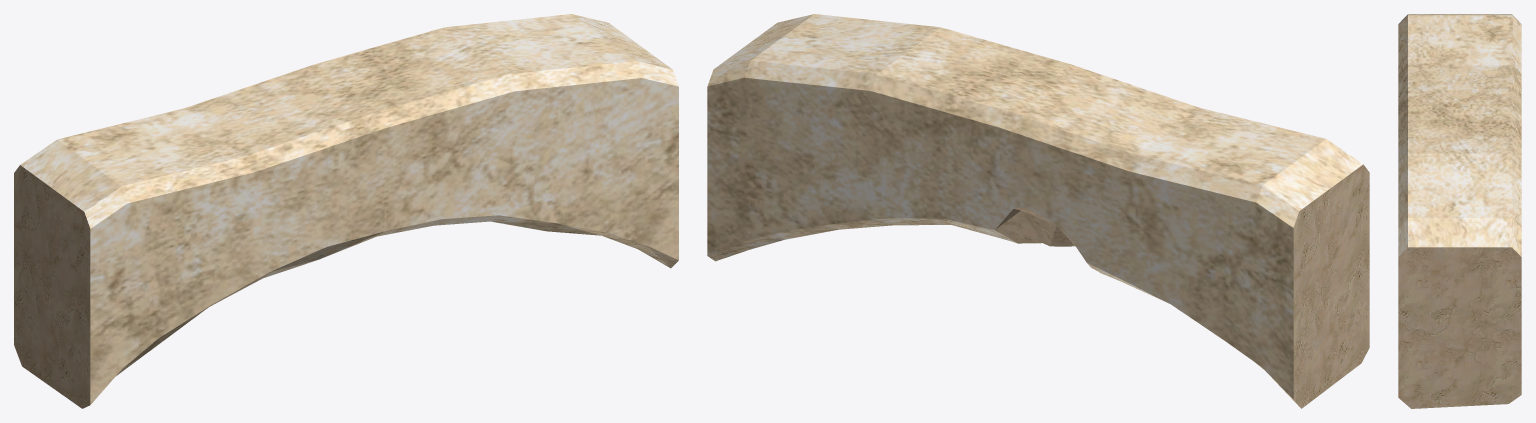
File: thm_tato_imprv_over_beam_s01_l0.fbx
3 views of the same model, side by side, from view 1: azimuth 30°, elevation 25°; view 2: azimuth 150°, elevation 25°; view 3: azimuth 270°, elevation 25° (orthographic). The views are drawn at different scales.
Visible parts, largest first — view 1: mesh_node; view 2: mesh_node; view 3: mesh_node.
Part boxes in pixels (left/top/right/bottom): mesh_node: left=14, top=14, right=678, bottom=408; mesh_node: left=707, top=14, right=1369, bottom=408; mesh_node: left=1398, top=14, right=1521, bottom=408.
Size of the model in its own units: 4.23 by 1.62 by 0.95.
2 materials, 2 textured.
